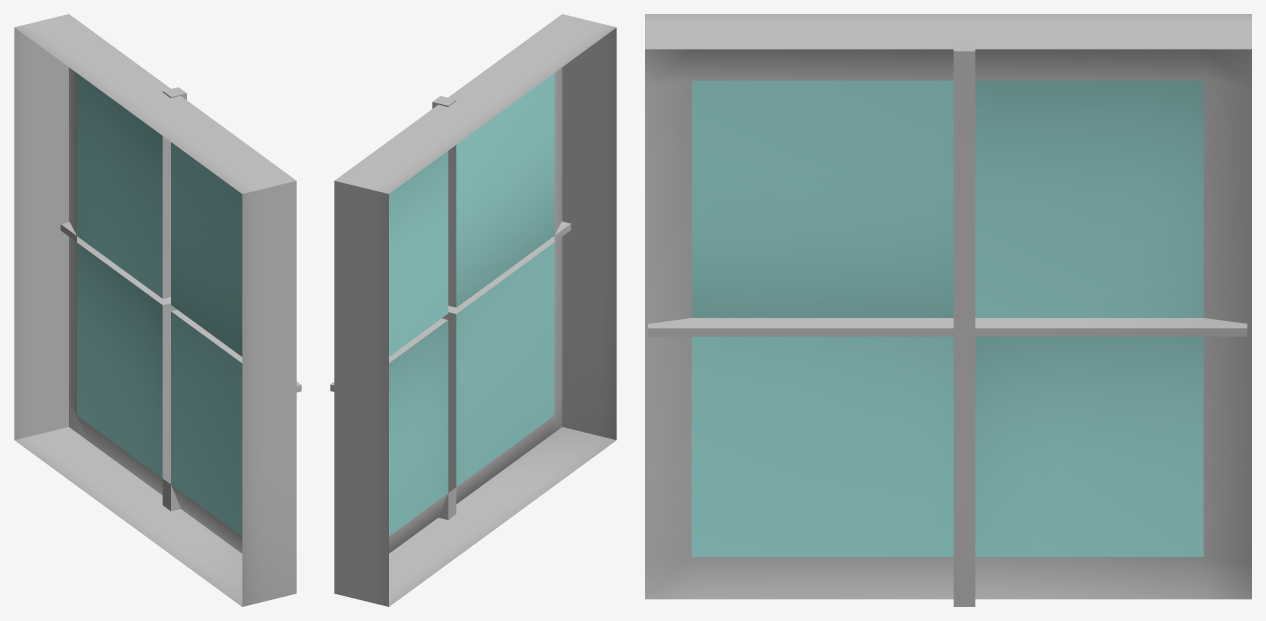
The model's file is Window.fbx.
The picture shows the model from 3 angles, left to right: view 1: azimuth 30°, elevation 25°; view 2: azimuth 150°, elevation 25°; view 3: azimuth 270°, elevation 25°; orthographic projection. The views are drawn at different scales.
Parts seen in each view (by area): view 1: pCube1; view 2: pCube1; view 3: pCube1.
Part boxes in pixels (x1,y1,x2,y2): pCube1: (14,14,301,606); pCube1: (330,14,616,606); pCube1: (645,14,1251,606).
Size of the model in its own units: 1.03 by 6.78 by 6.71.
